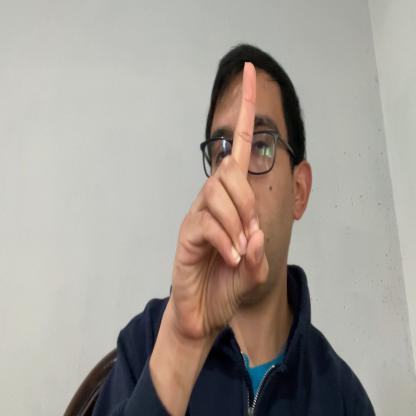D: (173, 61, 268, 327)
